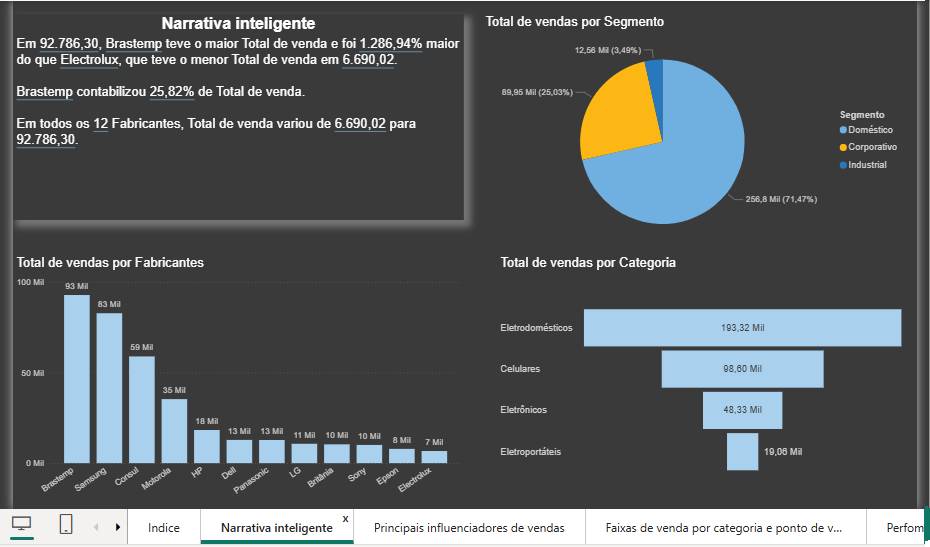

The page's visual inventory and layout, read from the dashboard file:
{"tool":"powerbi","page":{"name":"Narrativa inteligente","canvas":[1280,720],"ordinal":1},"visuals":[{"type":"pieChart","title":"Total de vendas por Segmento","fields":{"Category":["Vendas.Segmento"],"Y":["Sum(Vendas.ValorVenda)"]},"box":[665.3,18.7,603.4,341.3],"z":0},{"type":"clusteredColumnChart","title":"Total de vendas por Fabricantes","fields":{"Category":["Vendas.Fabricante"],"Y":["Sum(Vendas.ValorVenda)"]},"box":[0,360,639.4,360],"z":1000},{"type":"funnel","title":"Total de vendas por Categoria","fields":{"Category":["Vendas.Categoria"],"Y":["Sum(Vendas.ValorVenda)"]},"box":[685.4,360,583.2,360],"z":2000},{"type":"textbox","title":"Narrativa inteligente","box":[0,18.7,639.4,292.3],"z":3000}]}

Visuals, with their boxes on the page's 1280x720 design canvas (x1, y1, x2, y2). These are canvas units, not pixel positions in the 930x547 screenshot, which may show the page scaled, cropped or inside an application window:
"Total de vendas por Segmento" pieChart: (665,19,1269,360)
"Total de vendas por Fabricantes" clusteredColumnChart: (0,360,639,720)
"Total de vendas por Categoria" funnel: (685,360,1269,720)
"Narrativa inteligente" textbox: (0,19,639,311)
